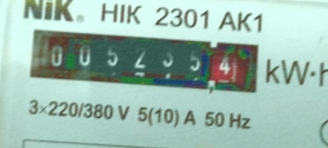0: (48, 42, 65, 69), (77, 42, 92, 68)
2: (132, 44, 147, 69)
3: (160, 43, 175, 69)
4: (216, 50, 233, 77)
5: (104, 42, 120, 69), (187, 46, 203, 73)
screen: (19, 20, 271, 102)
